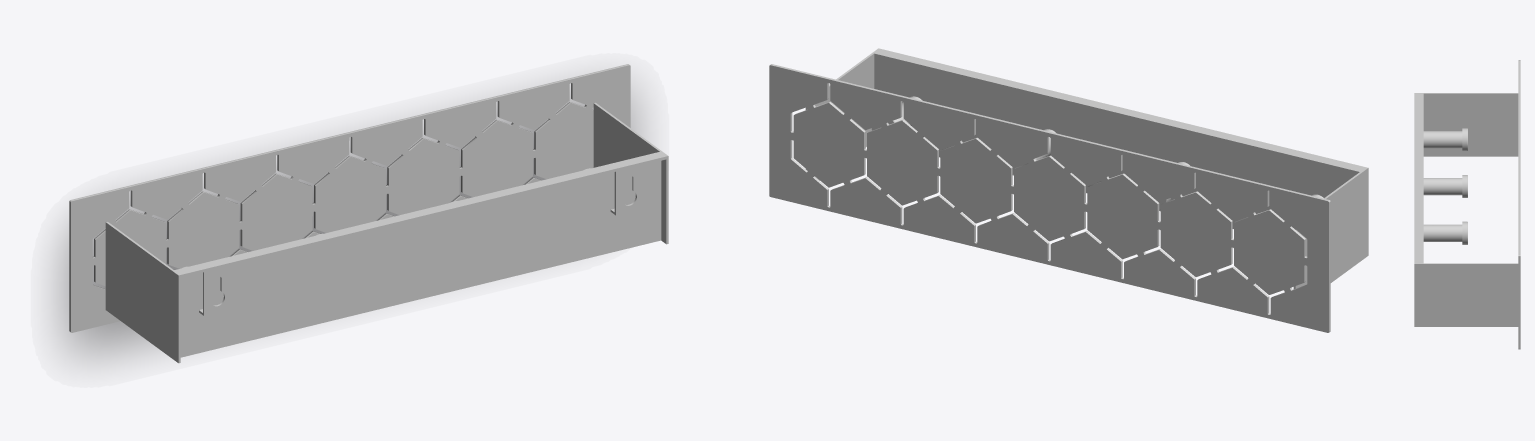
The model's file is bee-hook.0b0744ebb7.ar.glb.
The picture shows the model from 3 angles, left to right: view 1: azimuth 30°, elevation 25°; view 2: azimuth 150°, elevation 25°; view 3: azimuth 270°, elevation 25°; orthographic projection. The views are drawn at different scales.
Visible parts, largest first — view 1: NAUO1, object 2; view 2: NAUO1; view 3: NAUO1.
Boxes of the visible parts, x1,y1,x2,y2 form: NAUO1: (69,64,668,363); object 2: (58,88,641,356); NAUO1: (769,48,1368,332); NAUO1: (1414,60,1520,349).
Bounding box in the file's own units: 0.48 × 0.17 × 0.092.
2 materials, 1 textured.
